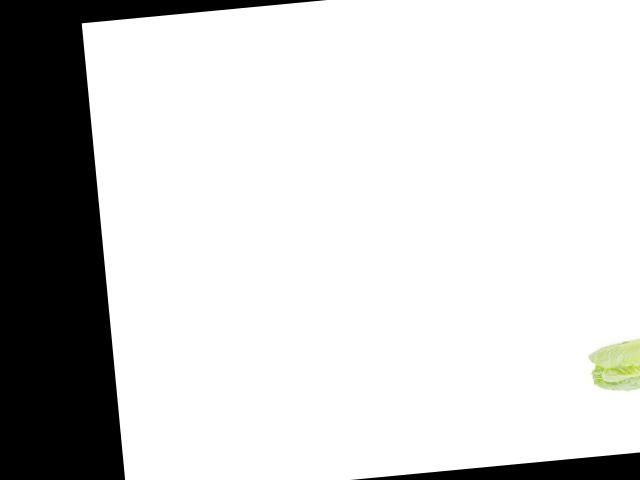lettuce: (585, 325, 640, 394)
